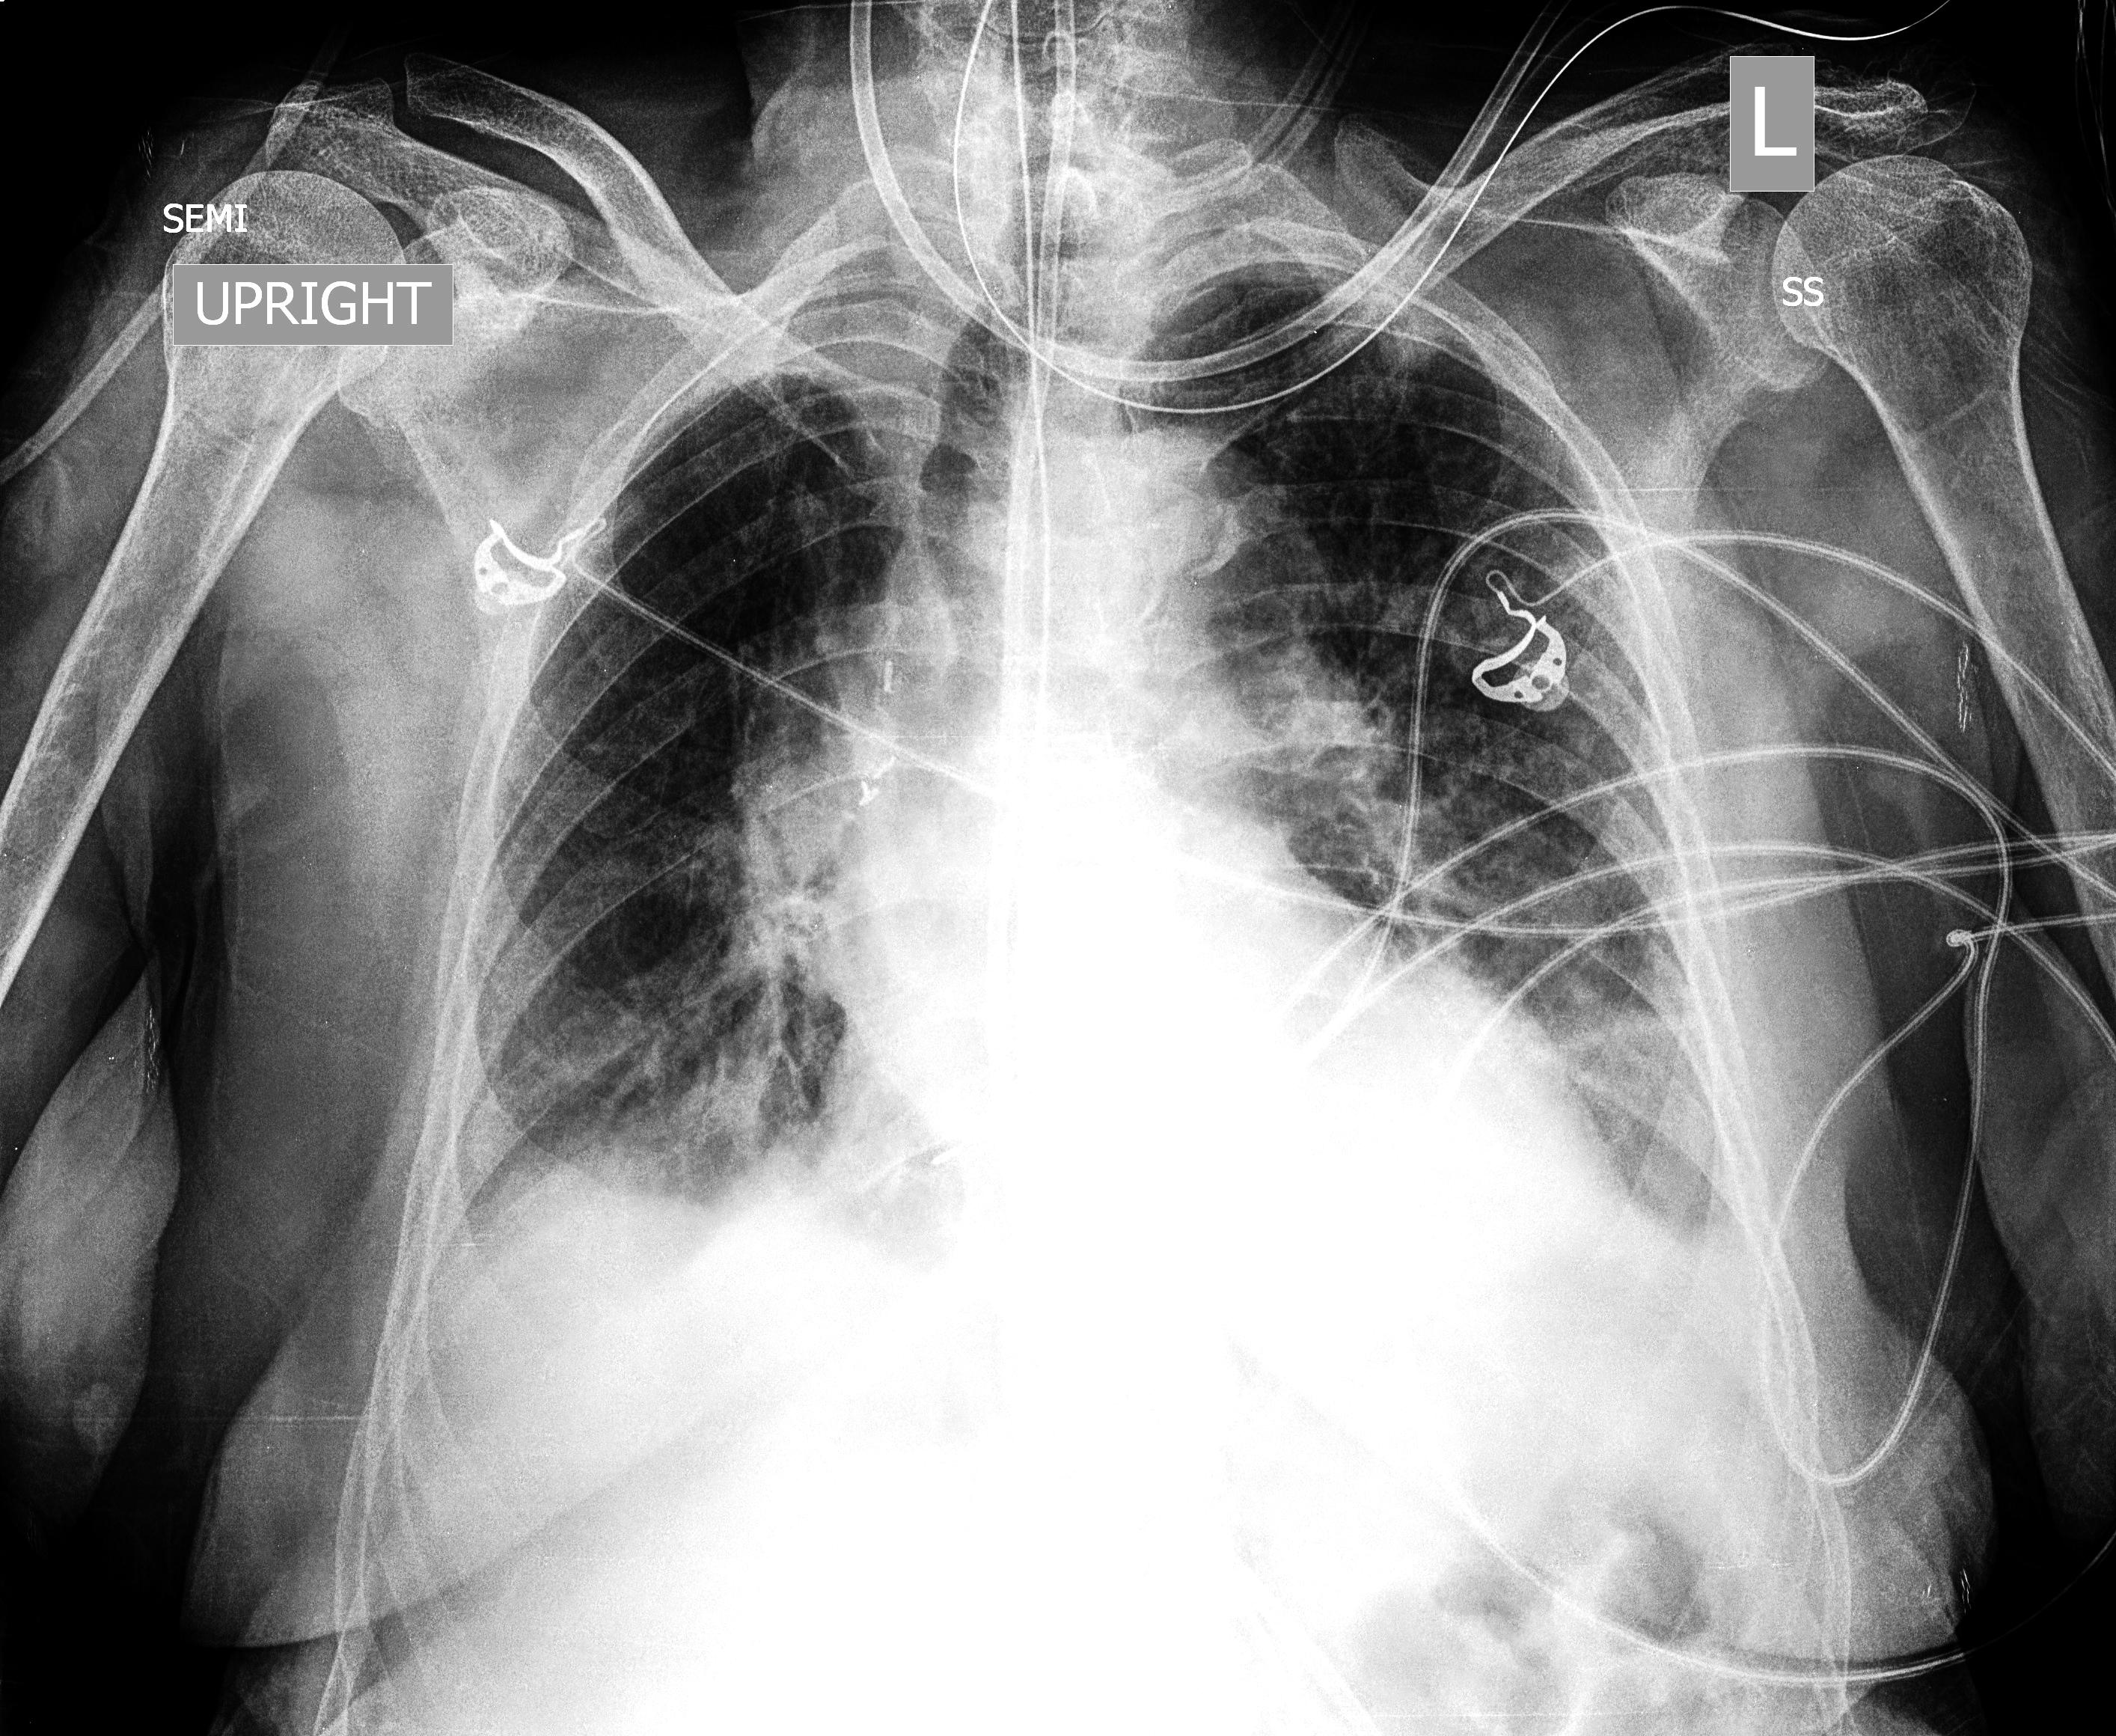Pleural Effusion: (373, 1161, 819, 1529)
